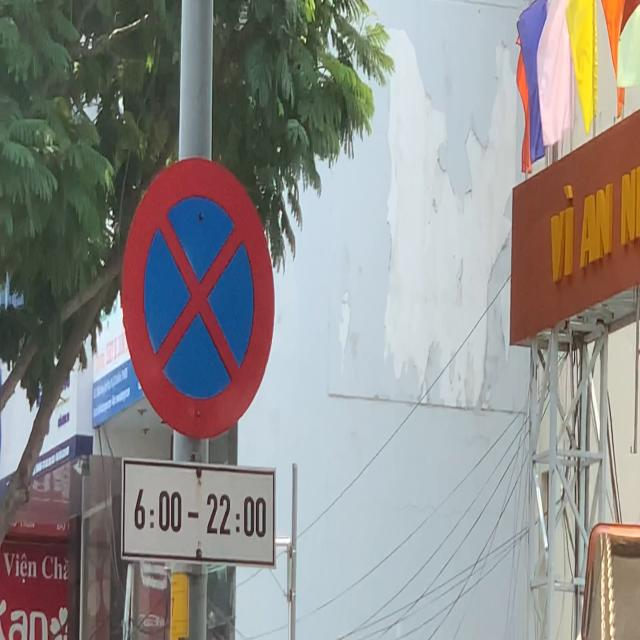Cam dung va do: (121, 157, 276, 440)
